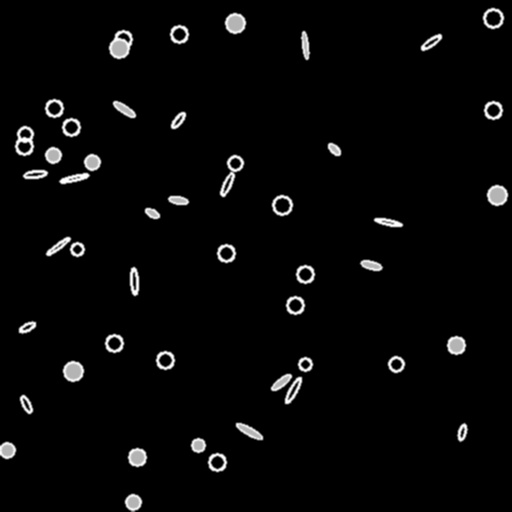pseudomonas: (45, 235, 71, 257), (283, 376, 303, 404), (235, 421, 263, 441), (112, 100, 136, 118), (420, 33, 442, 51), (219, 172, 235, 196), (271, 373, 291, 391), (60, 172, 88, 184), (170, 111, 186, 129), (19, 394, 33, 414), (374, 217, 402, 227), (18, 320, 36, 334), (326, 142, 342, 156), (24, 169, 46, 179), (456, 423, 468, 441), (301, 32, 309, 58), (130, 268, 138, 294), (361, 260, 381, 270), (168, 195, 188, 205), (144, 207, 160, 219)
synechocystis: (64, 362, 82, 380), (110, 39, 128, 57), (273, 196, 291, 214), (484, 9, 502, 27), (488, 186, 506, 204), (226, 14, 244, 32), (129, 449, 145, 465), (106, 335, 122, 351), (63, 119, 79, 135), (115, 31, 131, 47), (485, 102, 501, 118), (448, 337, 464, 353), (157, 352, 173, 368), (209, 454, 225, 470), (297, 266, 313, 282), (46, 100, 62, 116), (218, 245, 234, 261), (287, 297, 303, 313), (171, 26, 187, 42), (16, 138, 32, 154), (389, 357, 403, 371), (46, 148, 60, 162), (0, 443, 14, 457), (85, 155, 99, 169), (228, 156, 242, 170), (18, 127, 32, 141), (126, 495, 140, 509), (192, 439, 204, 451), (71, 243, 83, 255), (299, 358, 311, 370)
